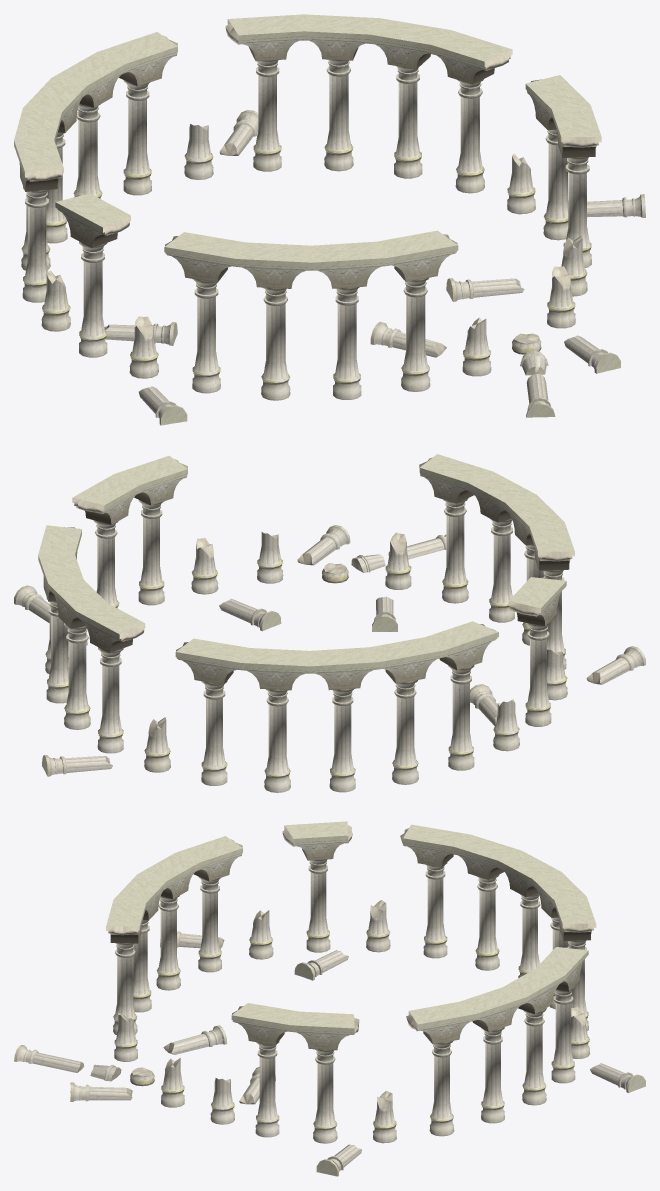
Rendered from Pillar_t1_004.fbx.
3 renders of one model, top to bottom at view 1: azimuth 30°, elevation 25°; view 2: azimuth 150°, elevation 25°; view 3: azimuth 270°, elevation 25°, orthographic. The views are drawn at different scales.
Visible parts, largest first — view 1: temple; view 2: temple; view 3: temple.
Boxes of the visible parts, x1=… form: temple: x1=14, y1=14, x2=645, y2=425; temple: x1=14, y1=454, x2=645, y2=792; temple: x1=14, y1=821, x2=645, y2=1176.
Bounding box in the file's own units: 3489 × 803 × 3896.
